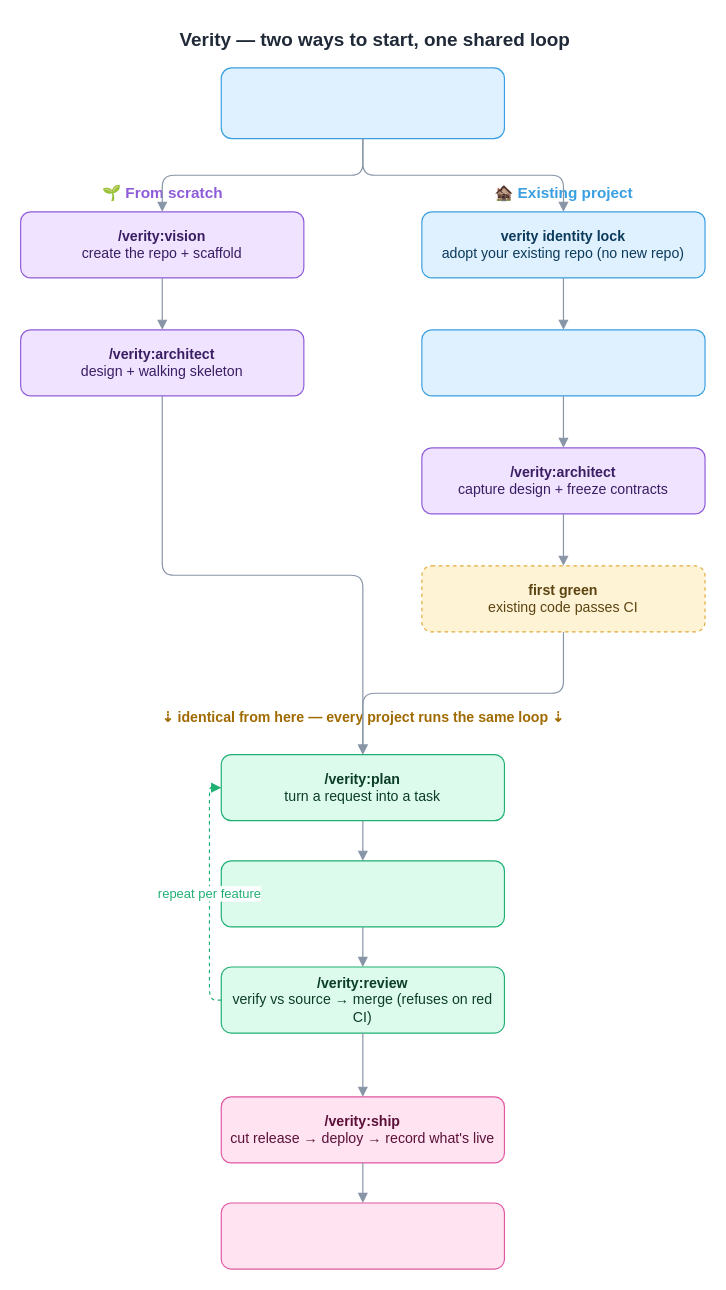
Image size: 726x1290. Some labels were removed from this diagram. The shapes that lost their labels are listed below. From the top down, each one's centre as x and y in pixels, then its label:
At [362,103]: "Install npm i -g verity-framework verity install --claude | --opencode".
At [563,362]: "verity scaffold init add missing spine (skips your files)".
At [362,893]: "/verity:build branch → PR → CI green (never merges)".
At [362,1235]: "/verity:verify drive the live app — prove it works".
